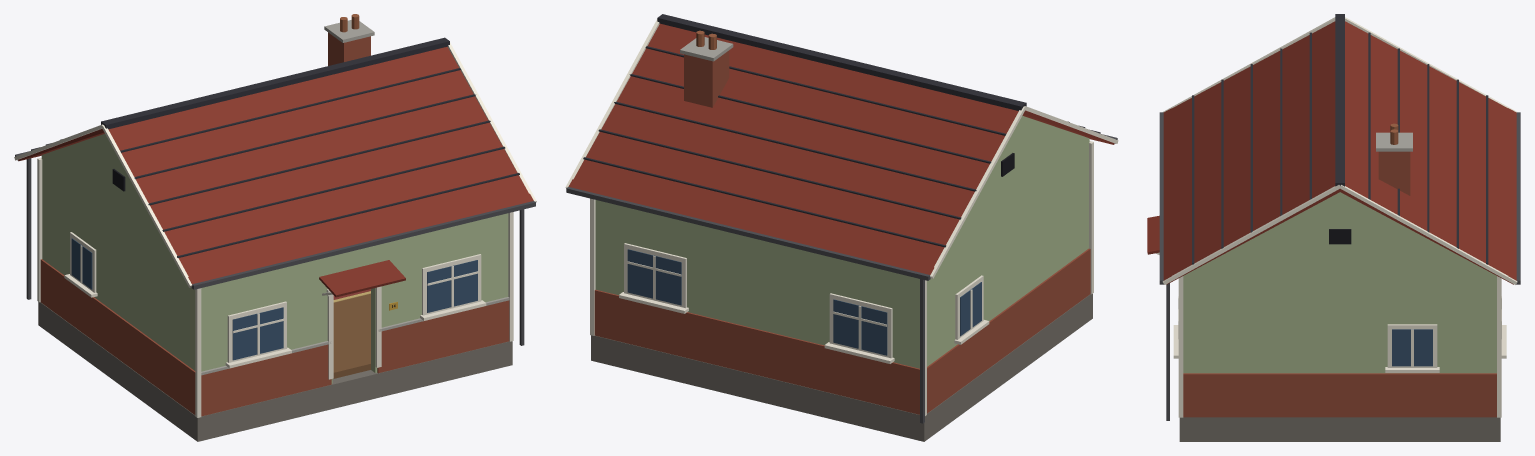
Rendered from house.d.glb.
The picture shows the model from 3 angles, left to right: view 1: azimuth 30°, elevation 25°; view 2: azimuth 150°, elevation 25°; view 3: azimuth 270°, elevation 25°; orthographic projection. The views are drawn at different scales.
Visible parts, largest first — view 1: roof-front, wall-left, foundation, wall-front-1, wall-front1, dado-s-1, dado-f1, dado-f-1, gable-1, ridge, floor, gutter1 (+23 smaller); view 2: roof-back, wall-back, wall-left, dado-b, foundation, dado-s-1, gable-1, ridge, gutter-1, wb-2.5-glass, wb2.5-glass, chimney (+14 smaller); view 3: roof-front, wall-right, roof-back, dado-s1, gable1, foundation, ridge, ws1-glass, chimney, barge1-1, barge11, gutter-1 (+21 smaller).
Part boxes in pixels (x1,y1,x2,y2): roof-front: (108, 46, 533, 284); wall-left: (46, 162, 193, 369); foundation: (38, 302, 512, 441); wall-front-1: (194, 256, 332, 383); wall-front1: (371, 213, 508, 372); dado-s-1: (40, 259, 195, 414); dado-f1: (377, 300, 509, 373); dado-f-1: (201, 344, 331, 416); gable-1: (41, 134, 169, 252); ridge: (101, 37, 449, 129); floor: (333, 293, 370, 378); gutter1: (191, 201, 535, 289); roof-back: (568, 23, 1018, 274); wall-back: (595, 200, 927, 368); wall-left: (928, 146, 1084, 365); dado-b: (594, 289, 919, 414); foundation: (591, 294, 1092, 441); dado-s-1: (927, 248, 1090, 413); gable-1: (953, 115, 1089, 241); ridge: (657, 14, 1026, 110); gutter-1: (566, 187, 930, 280); wb-2.5-glass: (833, 299, 887, 355); wb2.5-glass: (627, 249, 681, 305); chimney: (684, 50, 729, 107); roof-front: (1163, 21, 1342, 284); wall-right: (1191, 273, 1489, 373); roof-back: (1338, 21, 1516, 284); dado-s1: (1183, 373, 1496, 417); gable1: (1189, 192, 1490, 272); foundation: (1179, 417, 1500, 441); ridge: (1335, 14, 1344, 186); ws1-glass: (1392, 329, 1432, 366); chimney: (1378, 151, 1410, 195); barge1-1: (1339, 185, 1517, 284); barge11: (1162, 185, 1339, 284); gutter-1: (1516, 112, 1520, 284).
Bounding box in the file's own units: 8.92 × 6.98 × 8.25.
